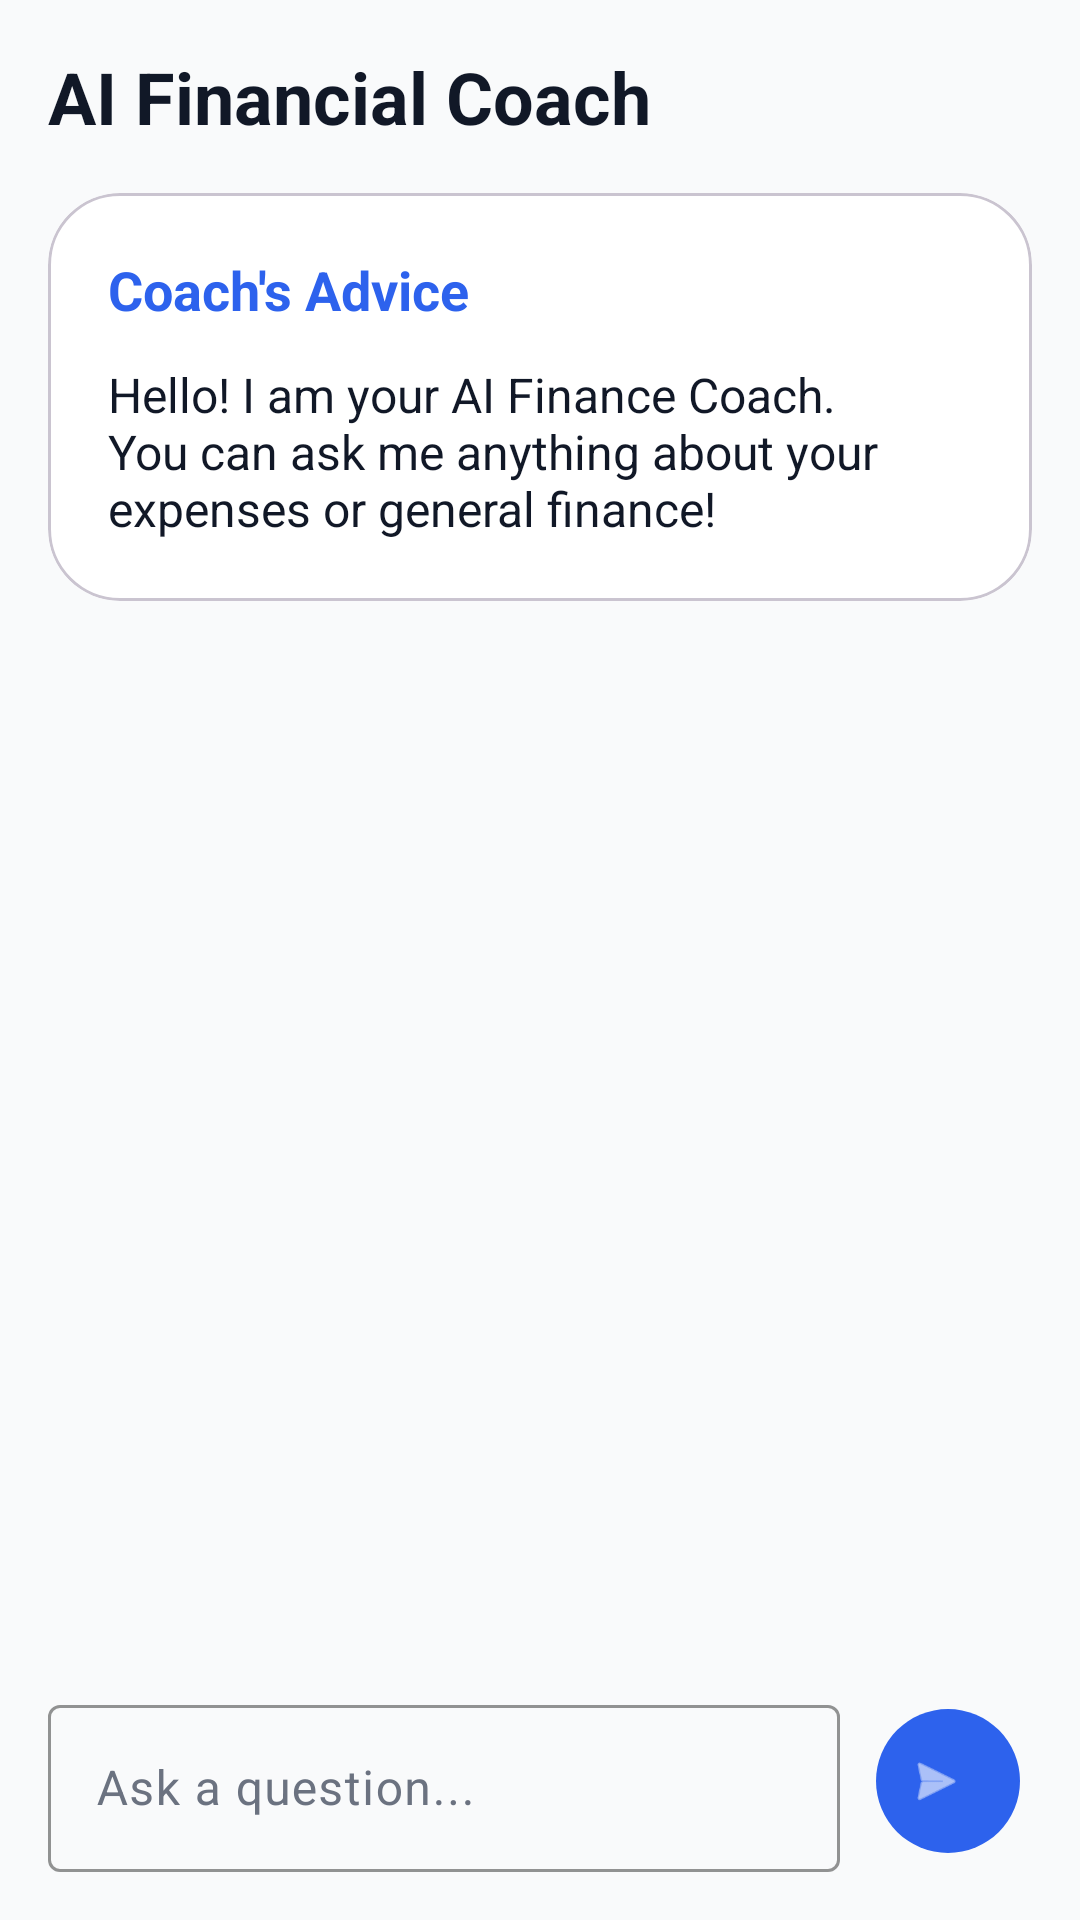

Where icons sit on this 1080px x 1920px app screen, as (x1, y1, x2, y2):
send: (876, 1709, 1020, 1853)
